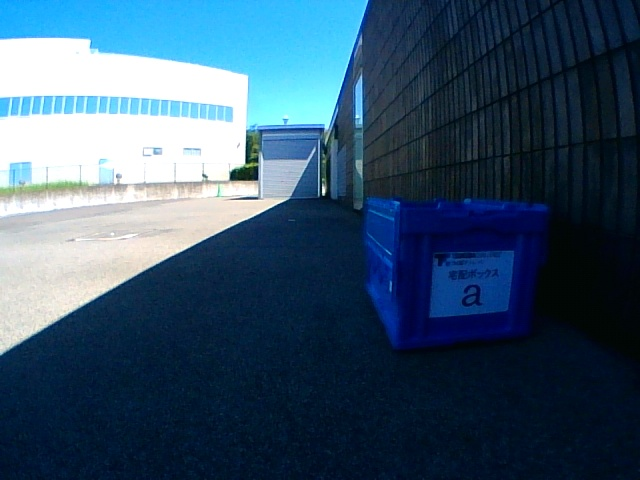blue_box: (365, 199, 545, 348)
tag_a: (438, 256, 505, 311)
